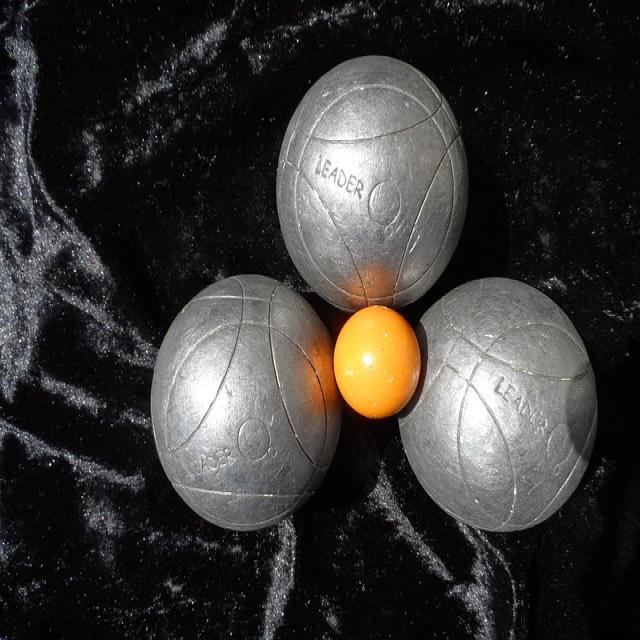hatball: (326, 295, 431, 436)
petanque: (388, 272, 605, 545), (266, 47, 478, 314), (137, 268, 344, 537)
